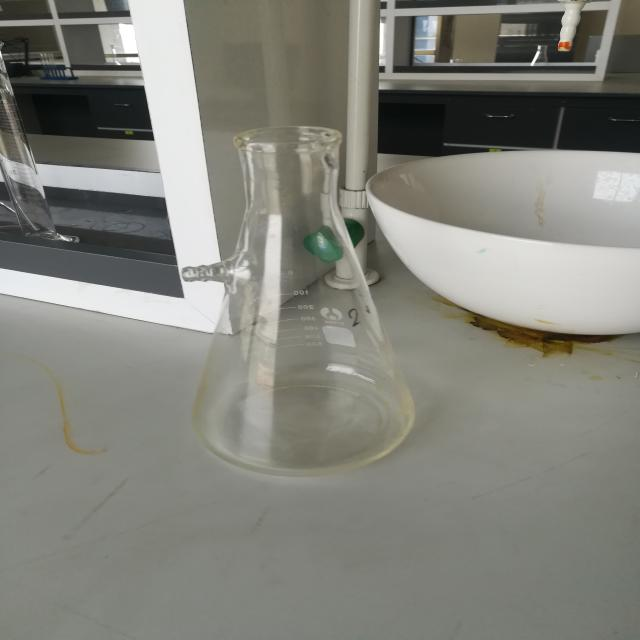Conical_Flask: (121, 83, 492, 515)
